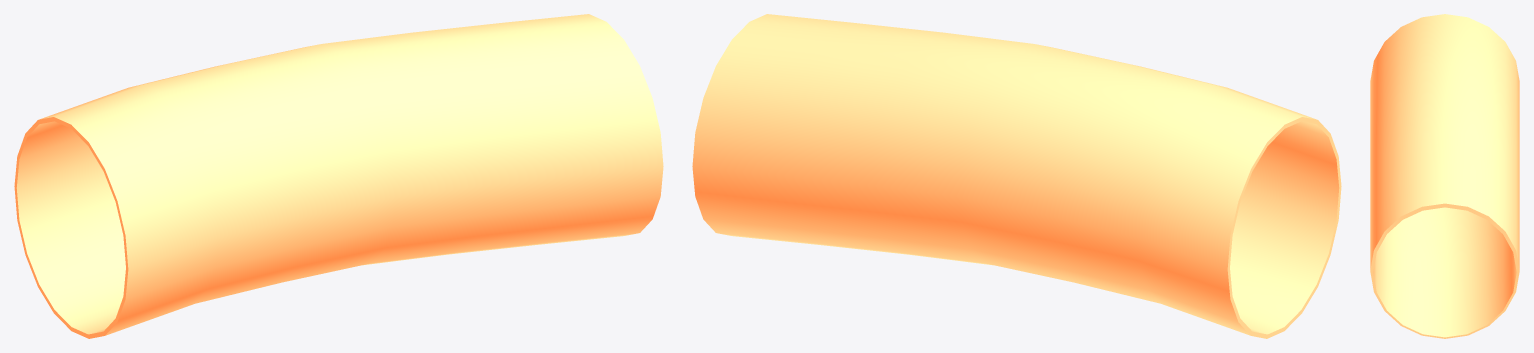
File: SM_PipeMadule3.fbx
The picture shows the model from 3 angles, left to right: view 1: azimuth 30°, elevation 25°; view 2: azimuth 150°, elevation 25°; view 3: azimuth 270°, elevation 25°; orthographic projection. The views are drawn at different scales.
Visible parts, largest first — view 1: SM_PipeMadule3_LOD0; view 2: SM_PipeMadule3_LOD0; view 3: SM_PipeMadule3_LOD0.
Boxes of the visible parts, x1,y1,x2,y2 form: SM_PipeMadule3_LOD0: (14, 14, 663, 338); SM_PipeMadule3_LOD0: (692, 14, 1341, 338); SM_PipeMadule3_LOD0: (1370, 14, 1519, 338).
Size of the model in its own units: 458 by 169 by 200.
